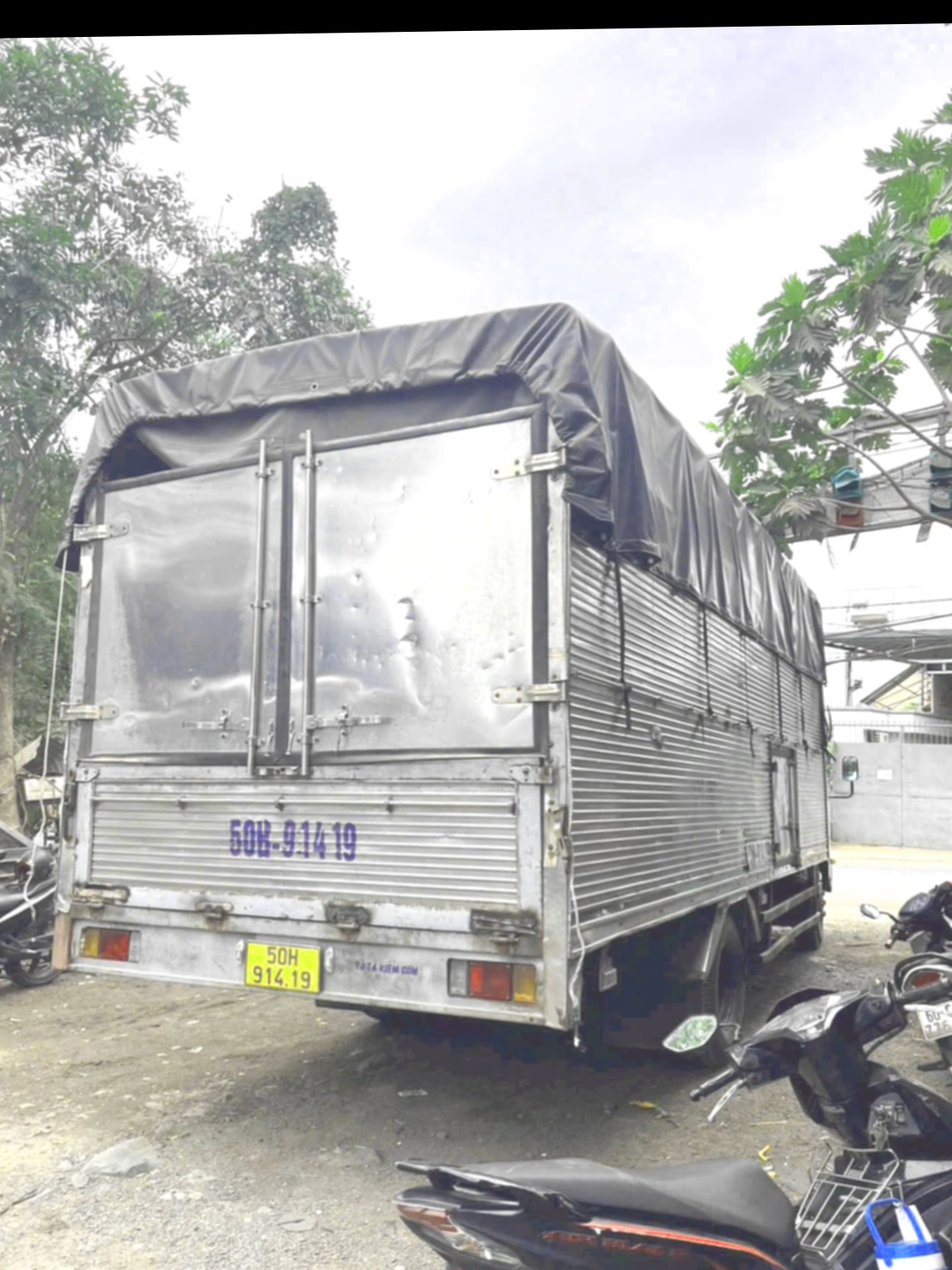Bien-so: (278, 960, 363, 1020), (907, 1026, 952, 1073)
